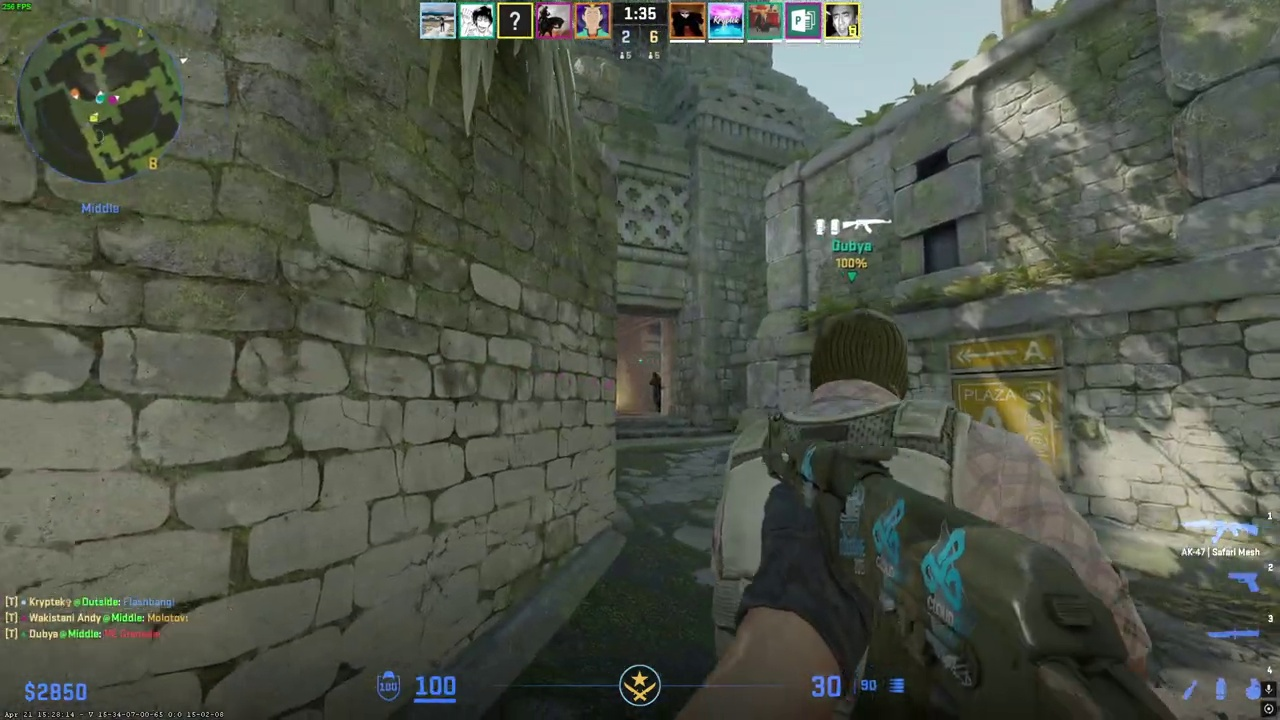CT: (649, 371, 665, 413)
Terrorist: (720, 309, 1047, 676)
